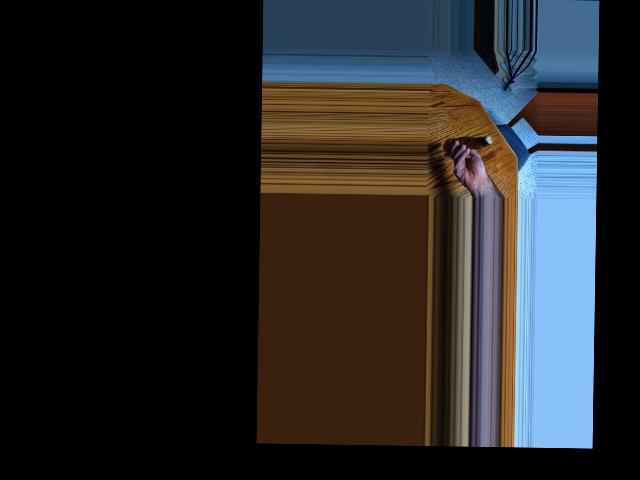sweet_potato: (443, 135, 497, 151)
